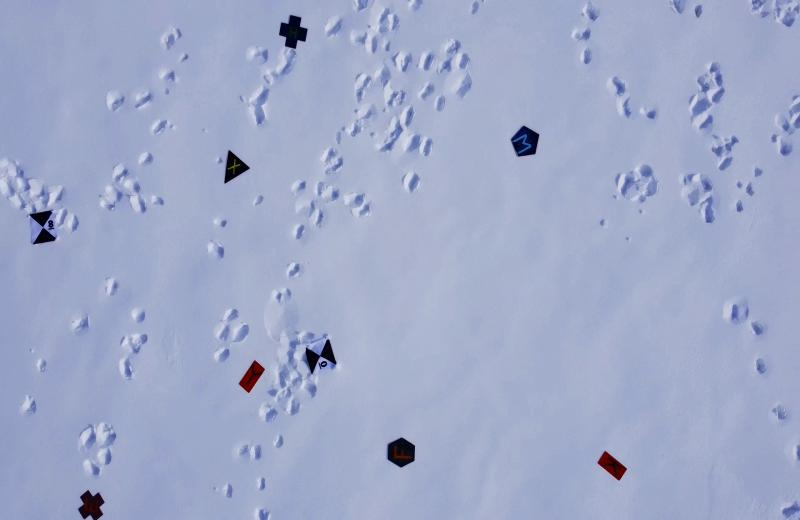Cross: (278, 12, 309, 52), (76, 483, 106, 520)
Hexagon: (384, 434, 419, 469)
Pentagon: (508, 122, 542, 159)
Rectangle: (594, 448, 628, 484), (237, 358, 266, 394)
Triangle: (222, 146, 253, 190)
